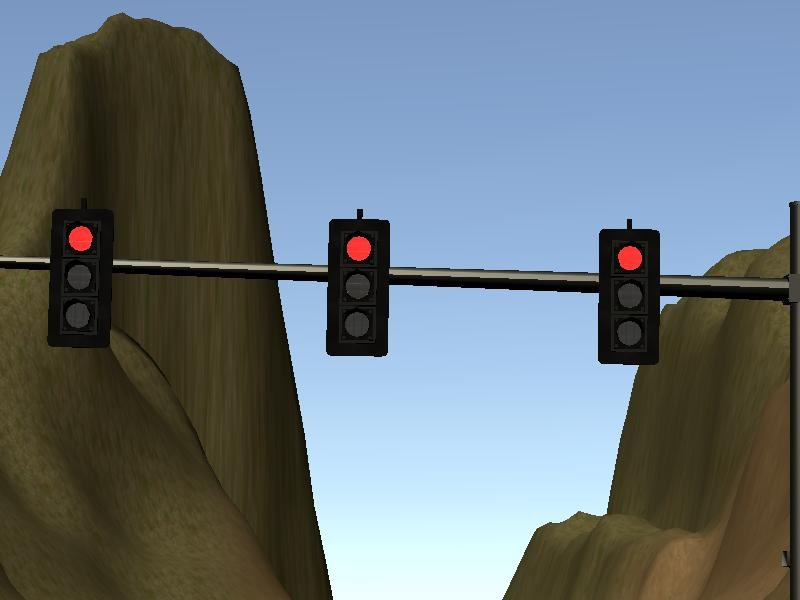RED: (593, 227, 663, 367), (324, 215, 394, 355), (46, 207, 116, 347)
